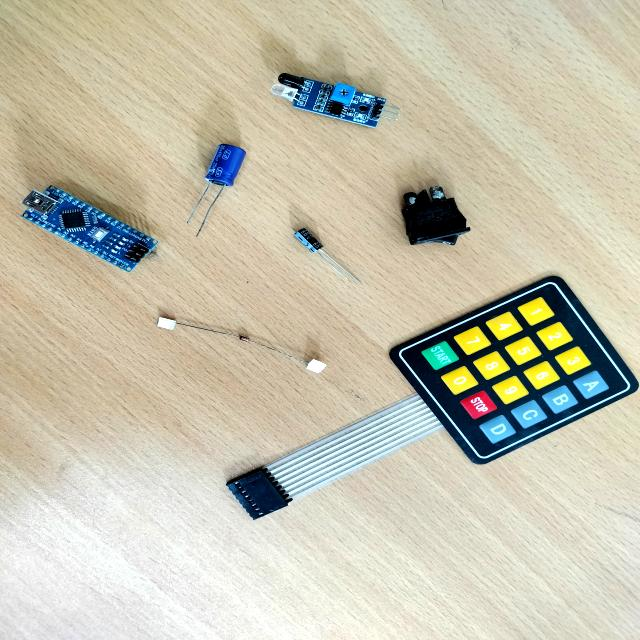capacitor: (207, 144, 245, 186), (295, 228, 322, 252)
